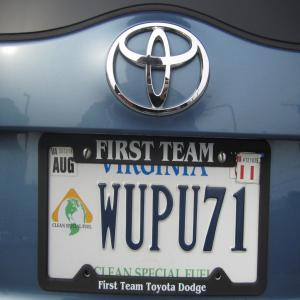Vehicle-registration-plate: (38, 135, 272, 300)
